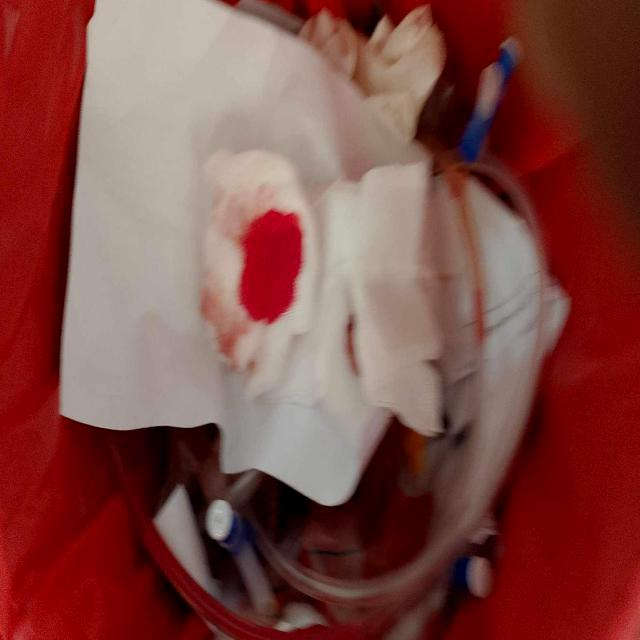General: (57, 1, 574, 637)
Sharps: (205, 497, 281, 619), (456, 35, 526, 164)
